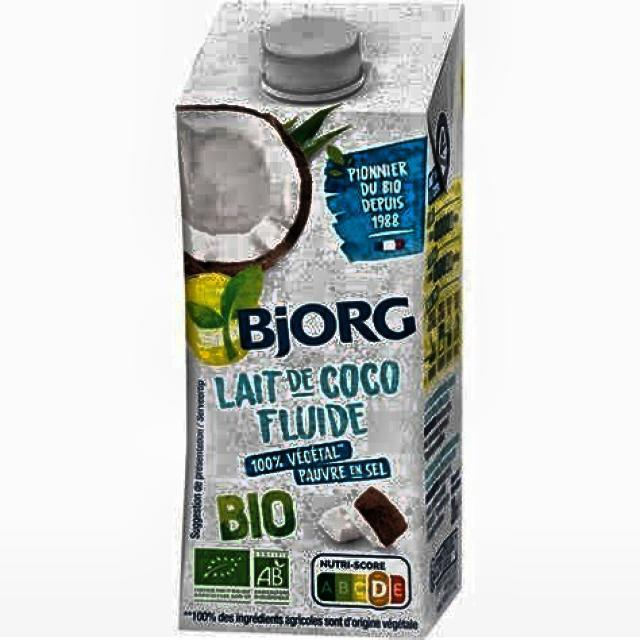cardboard: (174, 0, 465, 639)
